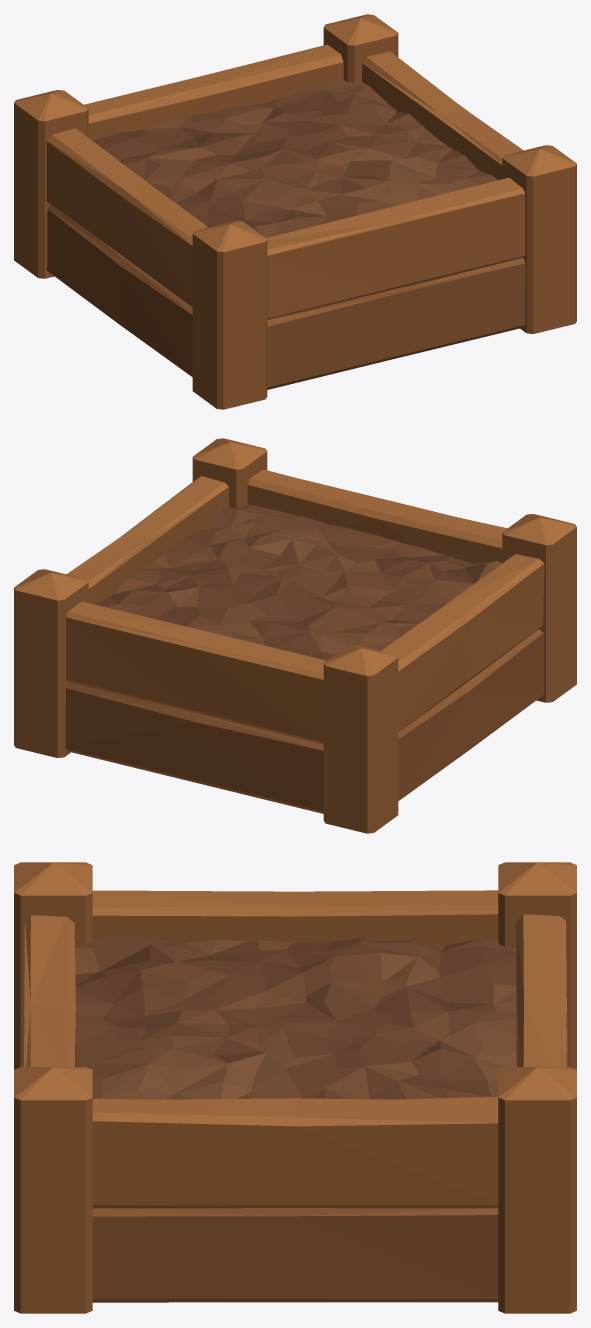
File: FMS_Bed_Raised_1x1.fbx
3 renders of one model, top to bottom at view 1: azimuth 30°, elevation 25°; view 2: azimuth 150°, elevation 25°; view 3: azimuth 270°, elevation 25°, orthographic. The views are drawn at different scales.
Visible parts, largest first — view 1: FMS_Bed_Raised_1x1; view 2: FMS_Bed_Raised_1x1; view 3: FMS_Bed_Raised_1x1.
Part boxes in pixels (x1,y1,x2,y2): FMS_Bed_Raised_1x1: [14, 14, 576, 409]; FMS_Bed_Raised_1x1: [14, 438, 576, 833]; FMS_Bed_Raised_1x1: [14, 862, 576, 1313].
Bounding box in the file's own units: 1 × 0.45 × 1.
